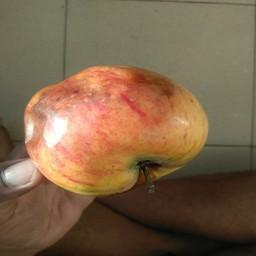Bad_apple: (23, 67, 205, 197)
